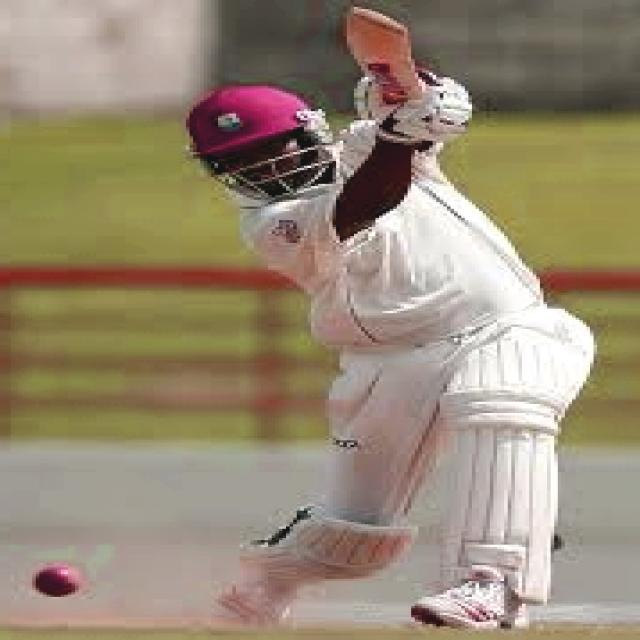toe: (346, 3, 412, 53)
